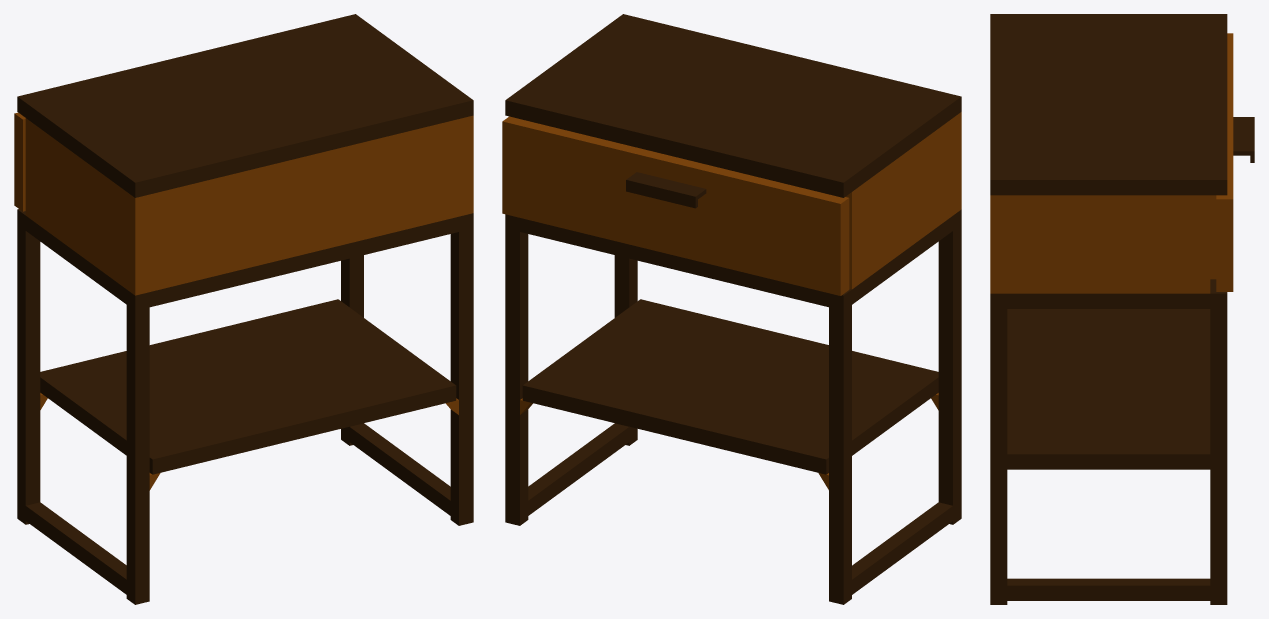
The model's file is Drawer.fbx.
3 renders of one model, left to right at view 1: azimuth 30°, elevation 25°; view 2: azimuth 150°, elevation 25°; view 3: azimuth 270°, elevation 25°, orthographic.
Visible parts, largest first — view 1: Buró, Tabla, Cajón; view 2: Buró, Tabla, Cajón; view 3: Buró, Tabla, Cajón.
Part boxes in pixels (x1,y1,x2,y2): Buró: (17, 14, 473, 604); Tabla: (40, 299, 456, 474); Cajón: (14, 112, 25, 211); Buró: (505, 14, 961, 604); Tabla: (522, 299, 938, 474); Cajón: (502, 116, 849, 295); Buró: (990, 14, 1227, 604); Tabla: (1007, 309, 1210, 469); Cajón: (1210, 33, 1254, 291).
Bounding box in the file's own units: 1.59 × 1.9 × 1.07.
